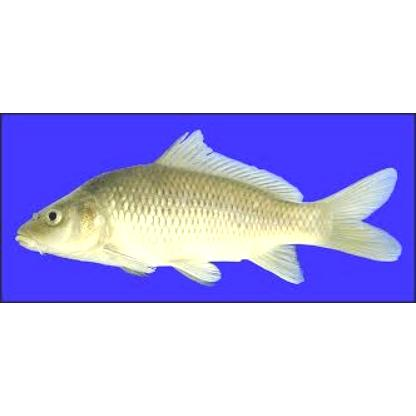ikan-mas: (16, 132, 404, 284)
